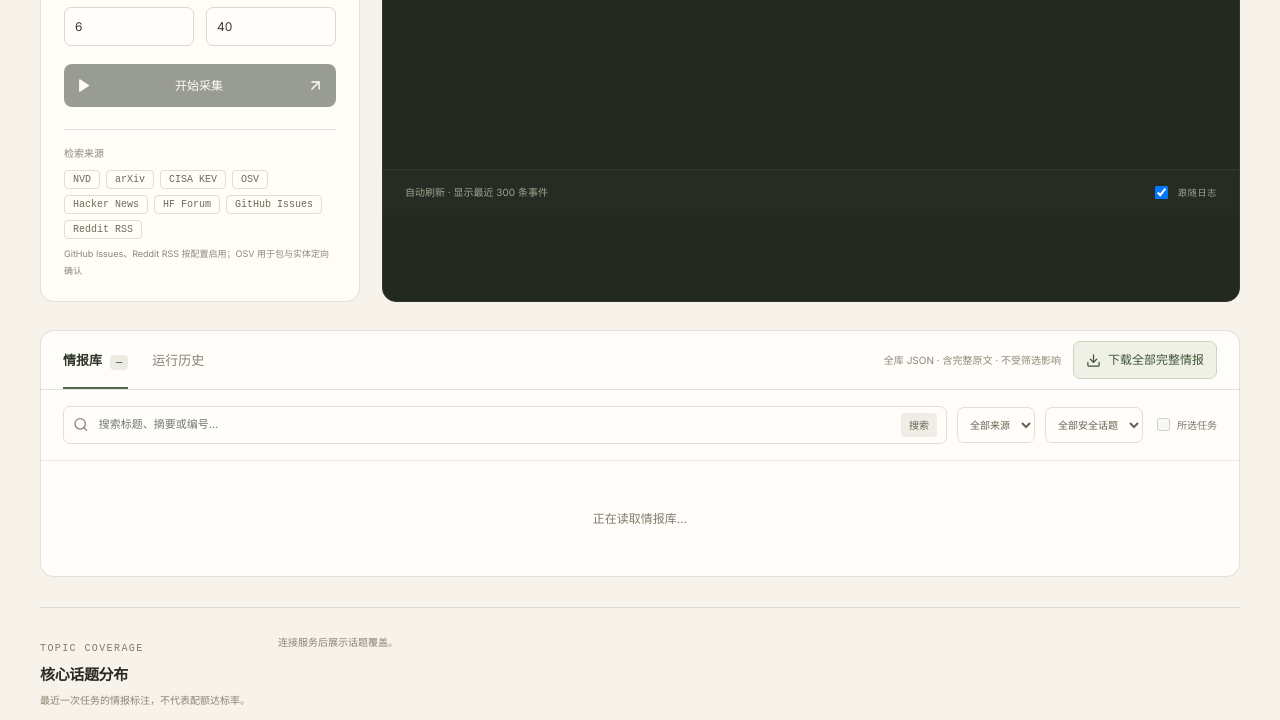
Test: IntelDashboard › shows export errors without starting a download (503, application/json)
The width and height of the screenshot is (1280, 720).
(page scrolled)
Click the button "下载全部完整情报": (1145, 360) [1073,342,1217,379]
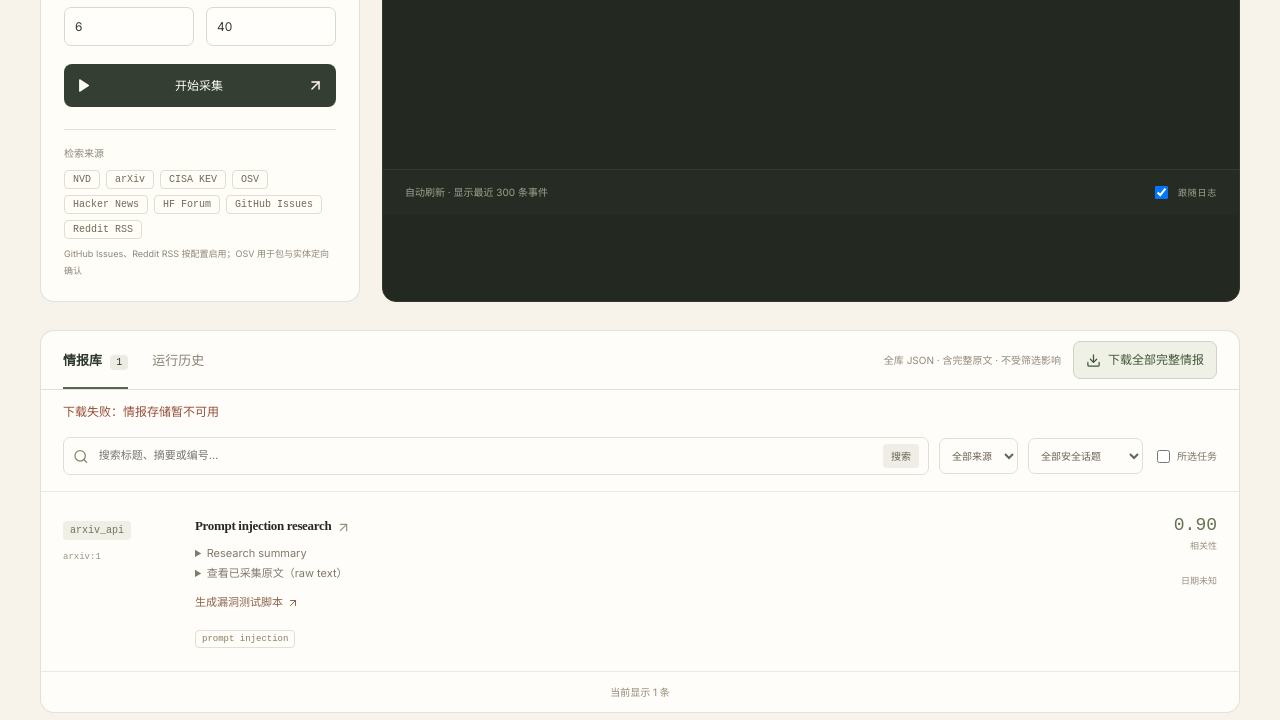
Now the message shows "情报存储暂不可用", box [123,404,219,419]
